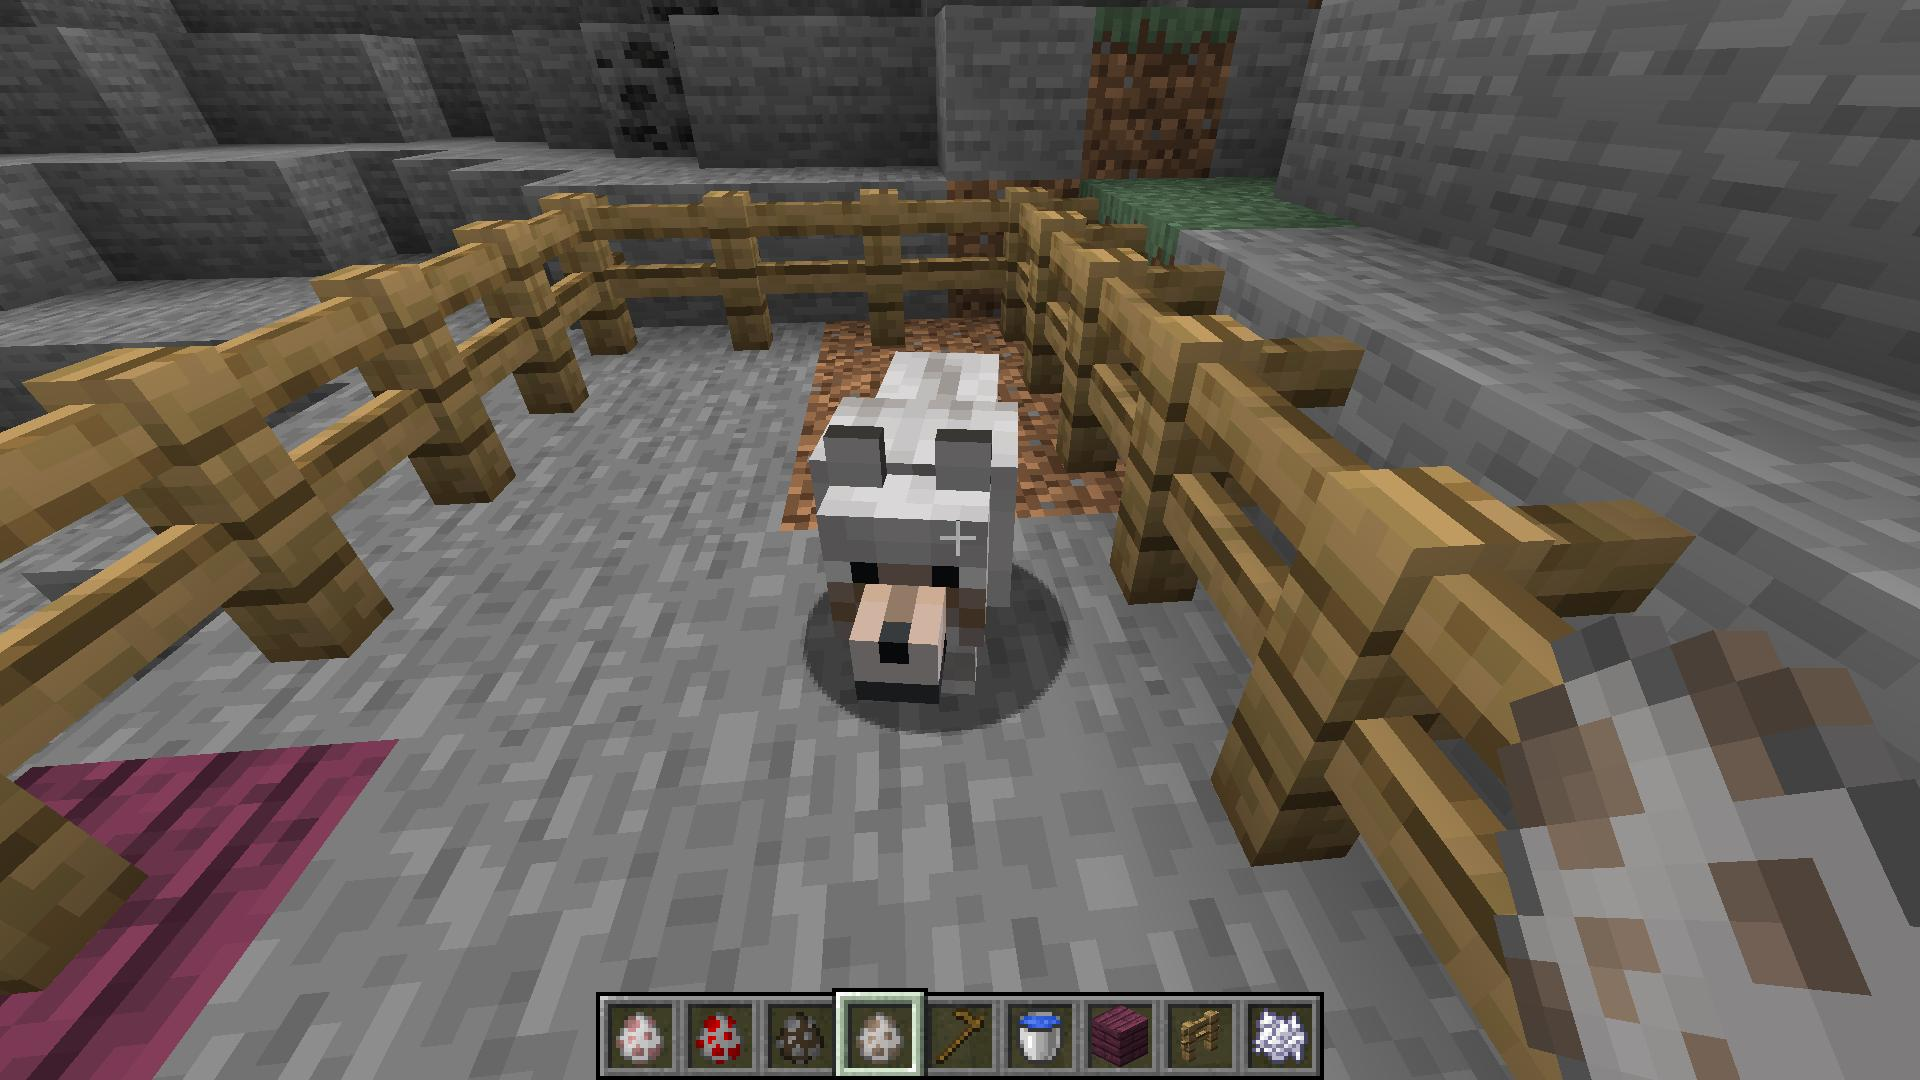wolf: (781, 324, 1019, 727)
